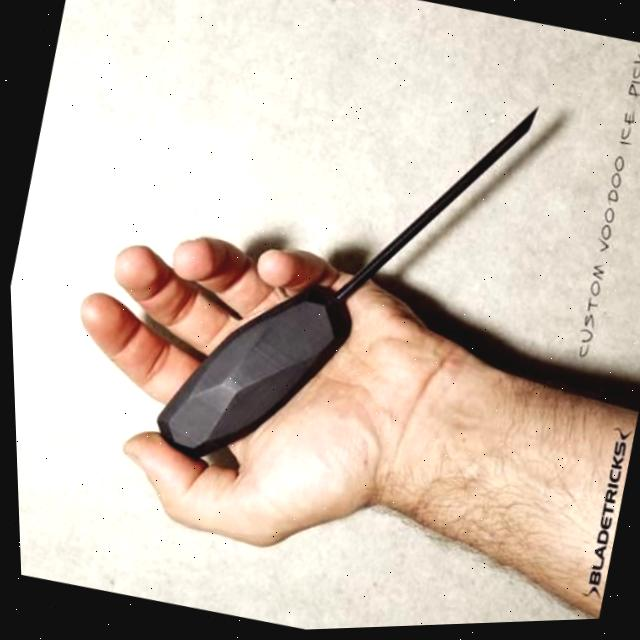ice pick: (135, 36, 551, 521)
